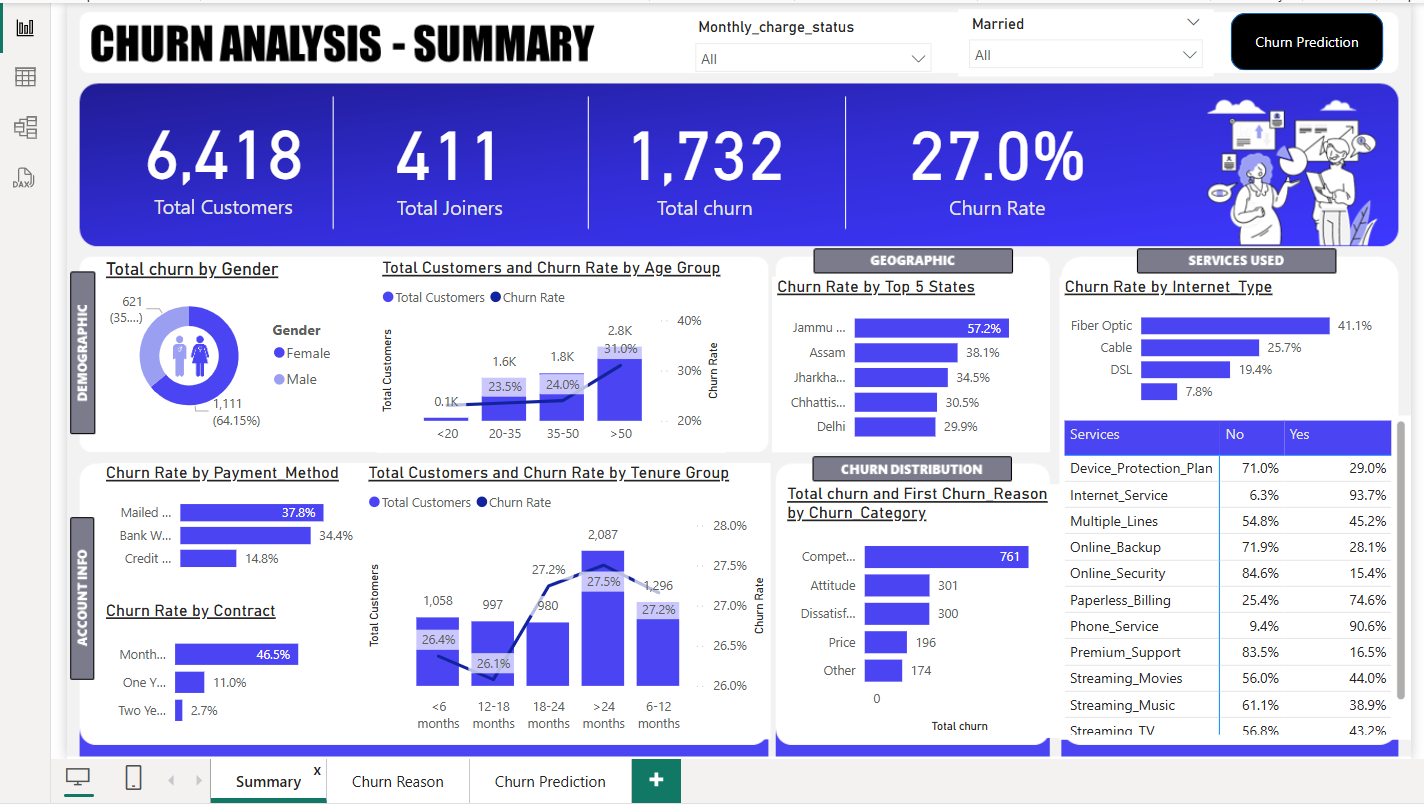

The dashboard page shown, as its layout file describes it:
{"tool":"powerbi","page":{"name":"Summary","canvas":[1280,720],"ordinal":0},"visuals":[{"type":"image","box":[87.8,300.5,60.4,71.4],"z":0},{"type":"card","fields":{"Values":["tbl_measures.Churn Rate"]},"box":[753.3,56.3,264.8,186.6],"z":1000},{"type":"card","fields":{"Values":["tbl_measures.Total churn"]},"box":[474.8,56.3,264.8,186.6],"z":2000},{"type":"card","fields":{"Values":["tbl_measures.Total Customers"]},"box":[16.5,85.1,264.8,127.6],"z":3000},{"type":"card","fields":{"Values":["tbl_measures.Total Joiners"]},"box":[231.9,56.3,264.8,186.6],"z":4000},{"type":"donutChart","fields":{"Category":["db_new prod_churn.Gender"],"Y":["tbl_measures.Total churn"]},"box":[31.6,242.9,234.6,167.4],"z":5000},{"type":"lineStackedColumnComboChart","fields":{"Category":["mapping age.Age Group"],"Y":["tbl_measures.Total Customers"],"Y2":["tbl_measures.Churn Rate"]},"box":[295,242.9,332.1,185.2],"z":6000},{"type":"clusteredBarChart","fields":{"Y":["tbl_measures.Churn Rate"],"Category":["db_new prod_churn.Payment_Method"]},"box":[31.6,437.7,251.1,113.9],"z":7000},{"type":"clusteredBarChart","fields":{"Category":["db_new prod_churn.Contract"],"Y":["tbl_measures.Churn Rate"]},"box":[31.6,569.5,231.9,131.7],"z":8000},{"type":"lineStackedColumnComboChart","fields":{"Category":["mapping tenure.Tenure Group"],"Y":["tbl_measures.Total Customers"],"Y2":["tbl_measures.Churn Rate"]},"box":[282.7,437.7,388.3,263.5],"z":9000},{"type":"clusteredBarChart","title":"Churn Rate by Top 5 States","fields":{"Category":["db_new prod_churn.State"],"Y":["tbl_measures.Churn Rate"]},"box":[671,260.7,264.8,167.4],"z":10000},{"type":"clusteredBarChart","fields":{"Category":["db_new prod_churn.Churn_Category"],"Y":["tbl_measures.Total churn"]},"box":[680.6,458.3,264.8,241.5],"z":11000},{"type":"clusteredBarChart","fields":{"Category":["db_new prod_churn.Internet_Type"],"Y":["tbl_measures.Churn Rate"]},"box":[945.5,260.7,308.7,131.7],"z":12000},{"type":"pivotTable","fields":{"Rows":["Services.Services"],"Columns":["Services.Status"],"Values":["Sum(Services.Churn_status)"]},"box":[945.5,392.5,334.8,308.7],"z":13000},{"type":"slicer","fields":{"Values":["Services.Monthly_charge_status"]},"box":[588.1,9.5,245.2,57.1],"z":14000},{"type":"slicer","fields":{"Values":["Services.Married"]},"box":[848.8,6,242.9,64.3],"z":15000},{"type":"shape","box":[1108.3,9.5,145.2,54.8],"z":15001}]}

Visuals, with their boxes on the page's 1280x720 design canvas (x1, y1, x2, y2). These are canvas units, not pixel positions in the 1424x804 screenshot, which may show the page scaled, cropped or inside an application window:
image: [left=88, top=300, right=148, bottom=372]
card - tbl_measures.Churn Rate: [left=753, top=56, right=1018, bottom=243]
card - tbl_measures.Total churn: [left=475, top=56, right=740, bottom=243]
card - tbl_measures.Total Customers: [left=16, top=85, right=281, bottom=213]
card - tbl_measures.Total Joiners: [left=232, top=56, right=497, bottom=243]
donutChart - db_new prod_churn.Gender x tbl_measures.Total churn: [left=32, top=243, right=266, bottom=410]
lineStackedColumnComboChart - mapping age.Age Group x tbl_measures.Total Customers: [left=295, top=243, right=627, bottom=428]
clusteredBarChart - tbl_measures.Churn Rate x db_new prod_churn.Payment_Method: [left=32, top=438, right=283, bottom=552]
clusteredBarChart - db_new prod_churn.Contract x tbl_measures.Churn Rate: [left=32, top=570, right=264, bottom=701]
lineStackedColumnComboChart - mapping tenure.Tenure Group x tbl_measures.Total Customers: [left=283, top=438, right=671, bottom=701]
"Churn Rate by Top 5 States" clusteredBarChart: [left=671, top=261, right=936, bottom=428]
clusteredBarChart - db_new prod_churn.Churn_Category x tbl_measures.Total churn: [left=681, top=458, right=945, bottom=700]
clusteredBarChart - db_new prod_churn.Internet_Type x tbl_measures.Churn Rate: [left=946, top=261, right=1254, bottom=392]
pivotTable - Services.Services x Services.Status: [left=946, top=392, right=1280, bottom=701]
slicer - Services.Monthly_charge_status: [left=588, top=10, right=833, bottom=67]
slicer - Services.Married: [left=849, top=6, right=1092, bottom=70]
shape: [left=1108, top=10, right=1254, bottom=64]
